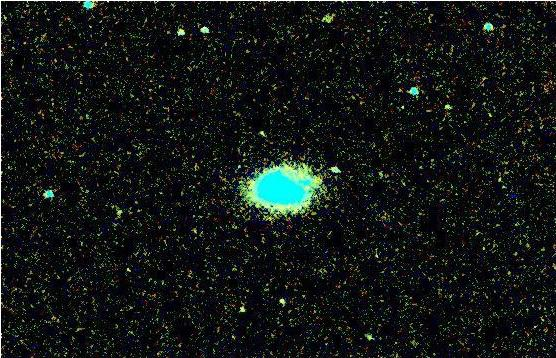star: (291, 166, 321, 196)
